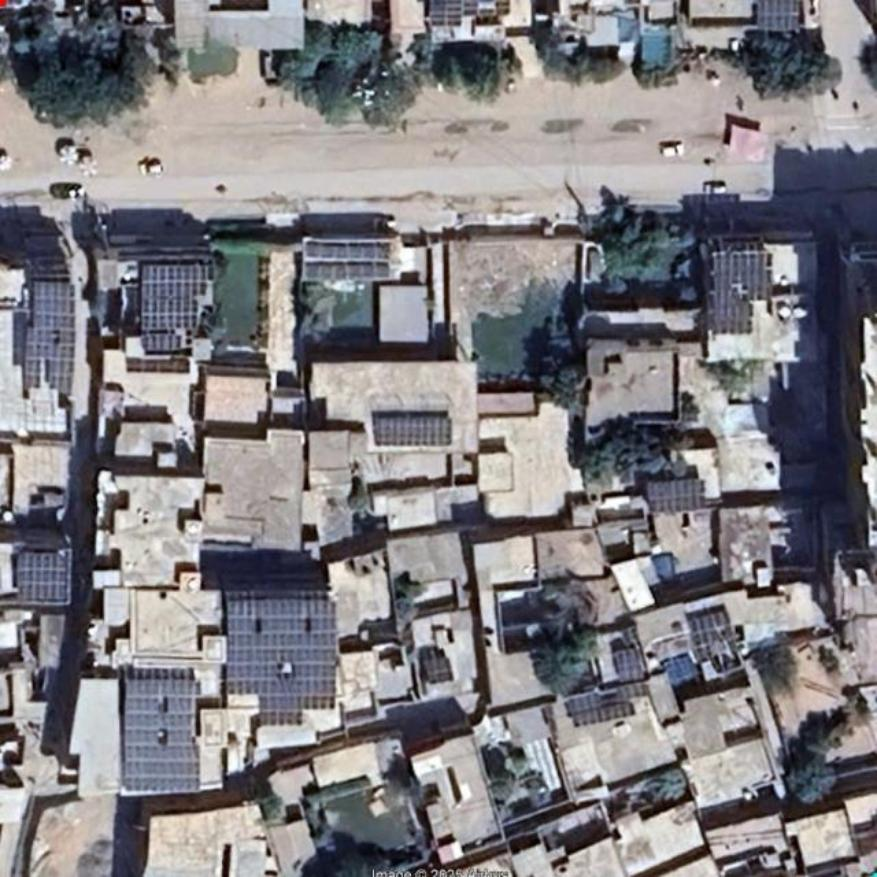Solarpanel: (225, 600, 333, 710), (122, 679, 199, 792), (24, 279, 73, 399), (714, 250, 771, 336), (141, 266, 215, 329), (16, 549, 72, 610), (686, 604, 739, 661), (377, 414, 453, 447), (299, 237, 392, 259), (648, 479, 704, 512), (303, 260, 394, 280), (759, 0, 804, 34), (615, 648, 645, 684), (429, 0, 463, 27), (566, 692, 600, 714), (146, 335, 181, 352)
